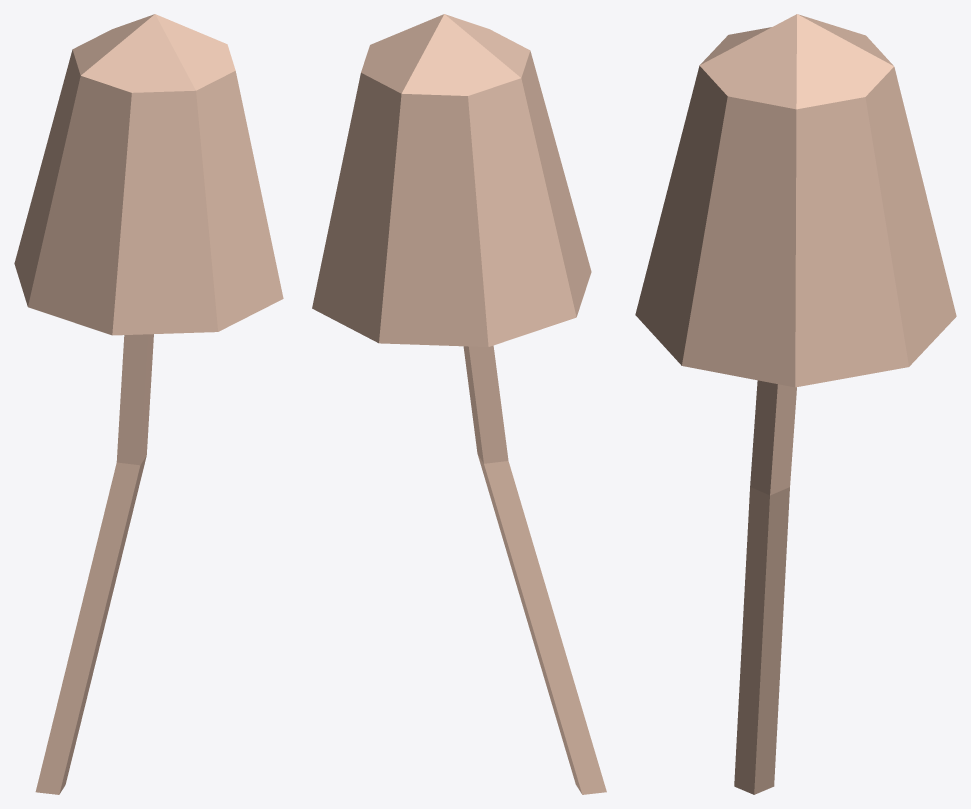
Rendered from Mushroom_b_01.fbx.
The picture shows the model from 3 angles, left to right: view 1: azimuth 30°, elevation 25°; view 2: azimuth 150°, elevation 25°; view 3: azimuth 270°, elevation 25°; orthographic projection. The views are drawn at different scales.
Parts seen in each view (by area): view 1: Mushroom_b_01; view 2: Mushroom_b_01; view 3: Mushroom_b_01.
Boxes of the visible parts, box(x1,y1,x2,y2) form: Mushroom_b_01: box(14, 14, 283, 794); Mushroom_b_01: box(312, 14, 606, 794); Mushroom_b_01: box(635, 14, 956, 794).
Bounding box in the file's own units: 0.1456 × 0.4029 × 0.1394.
